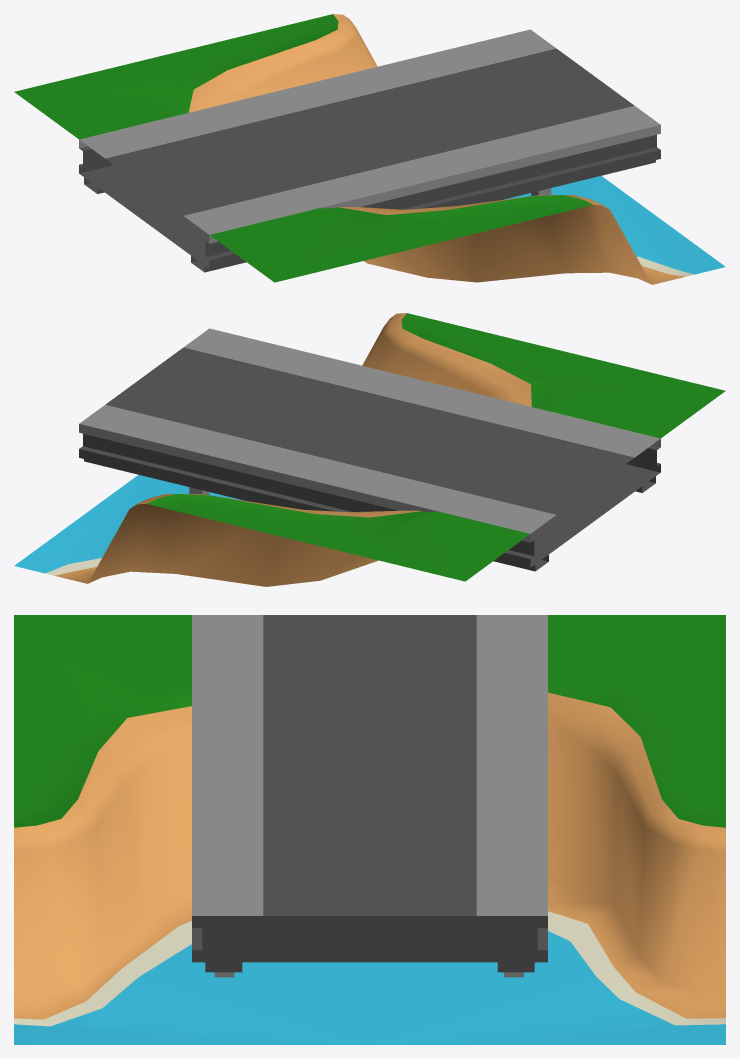
The model's file is Bridge-Jetty-Terrain.fbx.
3 renders of one model, top to bottom at view 1: azimuth 30°, elevation 25°; view 2: azimuth 150°, elevation 25°; view 3: azimuth 270°, elevation 25°, orthographic. The views are drawn at different scales.
Visible parts, largest first — view 1: Bridge-Jetty2_Road, Bridge-Jetty2_Terrain, Bridge-Jetty2_Sidewalk, Bridge-Jetty2_Sand, Bridge-Jetty2_Whitelines, Bridge-Jetty2_Water; view 2: Bridge-Jetty2_Road, Bridge-Jetty2_Terrain, Bridge-Jetty2_Sidewalk, Bridge-Jetty2_Sand, Bridge-Jetty2_Whitelines, Bridge-Jetty2_Water; view 3: Bridge-Jetty2_Road, Bridge-Jetty2_Sand, Bridge-Jetty2_Terrain, Bridge-Jetty2_Water, Bridge-Jetty2_Sidewalk, Bridge-Jetty2_Whitelines, Bridge-Jetty2_Seashore.
Part boxes in pixels (x1,y1,x2,y2): Bridge-Jetty2_Road: (79,48,660,272); Bridge-Jetty2_Terrain: (14,14,593,282); Bridge-Jetty2_Sidewalk: (79,29,660,243); Bridge-Jetty2_Sand: (188,14,685,284); Bridge-Jetty2_Whitelines: (99,44,640,220); Bridge-Jetty2_Water: (504,176,725,274); Bridge-Jetty2_Road: (79,347,660,571); Bridge-Jetty2_Terrain: (147,313,725,581); Bridge-Jetty2_Sidewalk: (79,328,660,542); Bridge-Jetty2_Sand: (54,313,531,586); Bridge-Jetty2_Whitelines: (99,343,640,519); Bridge-Jetty2_Water: (14,475,245,573); Bridge-Jetty2_Road: (192,615,547,972); Bridge-Jetty2_Sand: (14,692,725,1019); Bridge-Jetty2_Terrain: (14,615,725,827); Bridge-Jetty2_Water: (14,931,725,1044); Bridge-Jetty2_Sidewalk: (192,615,547,977); Bridge-Jetty2_Whitelines: (245,615,494,915); Bridge-Jetty2_Seashore: (14,911,725,1026).
Bounding box in the file's own units: 20 × 4.48 × 20.
